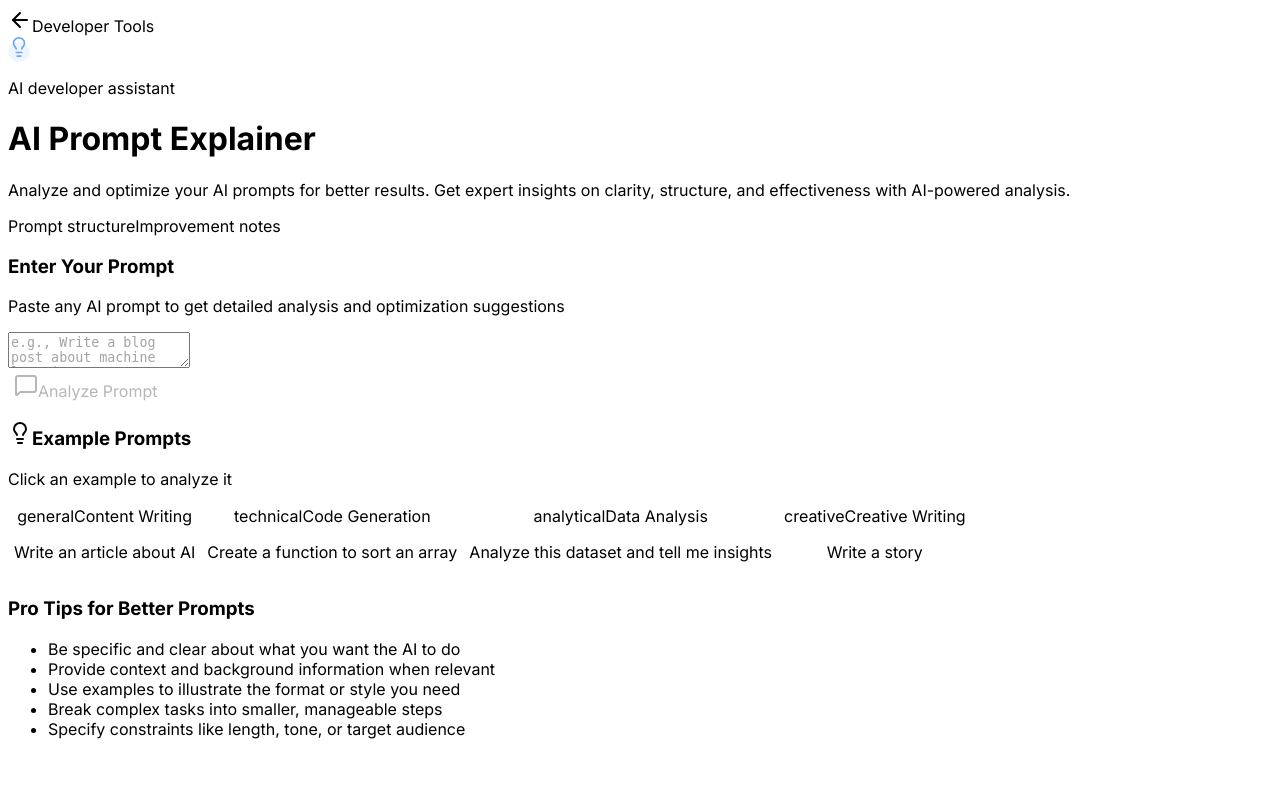
it: AI Prompt Explainer - Prompt Analysis Tests › should show improvement suggestions
Type "Write something" into the text box with placeholder "Write a blog post about machine learning".
click(99, 350); type("Write something")  # box left=8, top=332, right=190, bottom=368
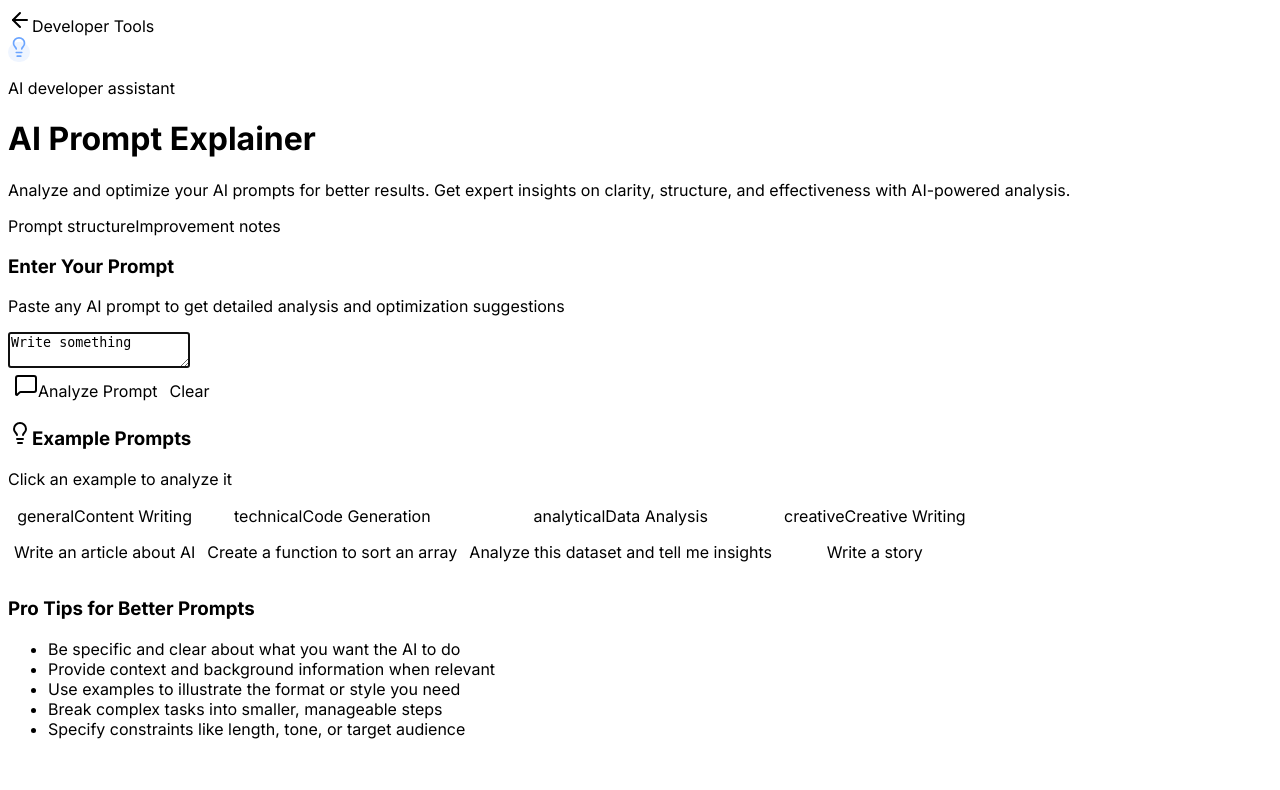
Click the button "Analyze Prompt".
click(86, 387)  # box left=8, top=372, right=164, bottom=402
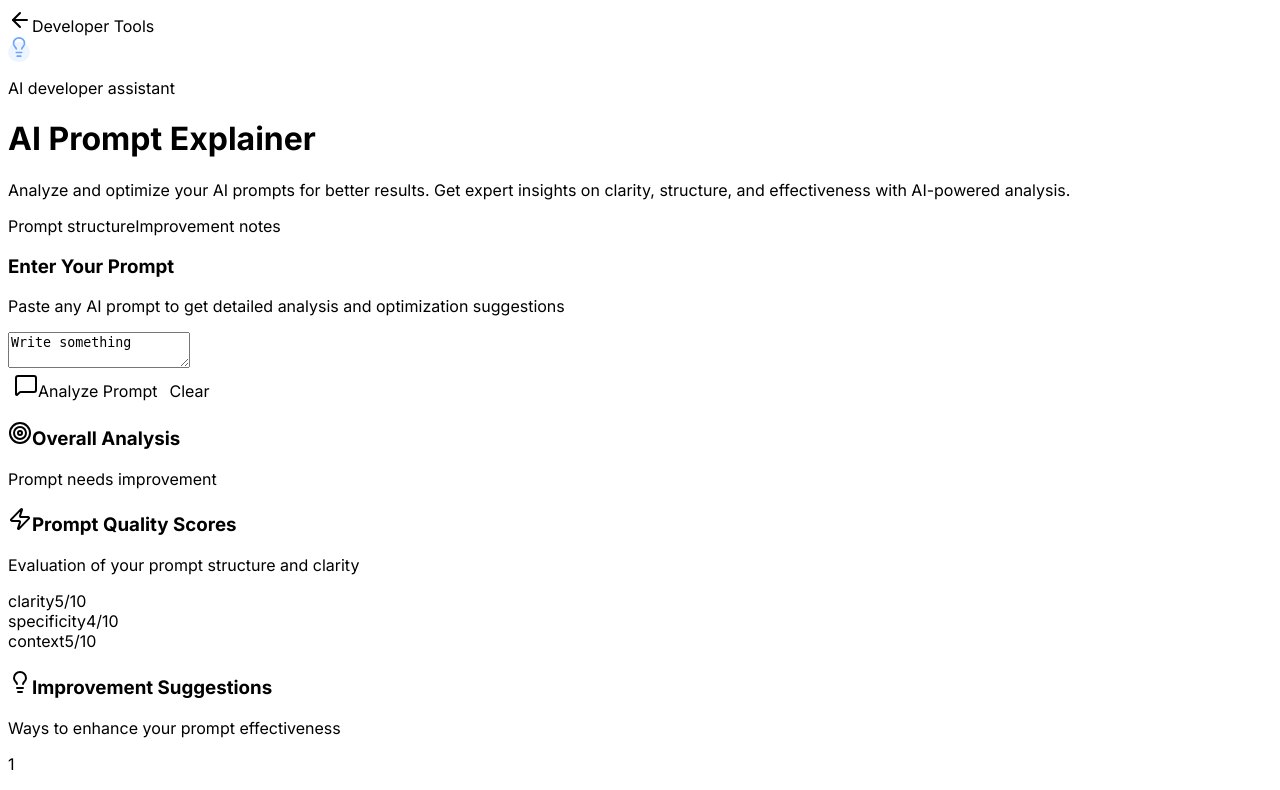
expect the text "Improvement Suggestions" is shown: met, box left=8, top=670, right=272, bottom=699
